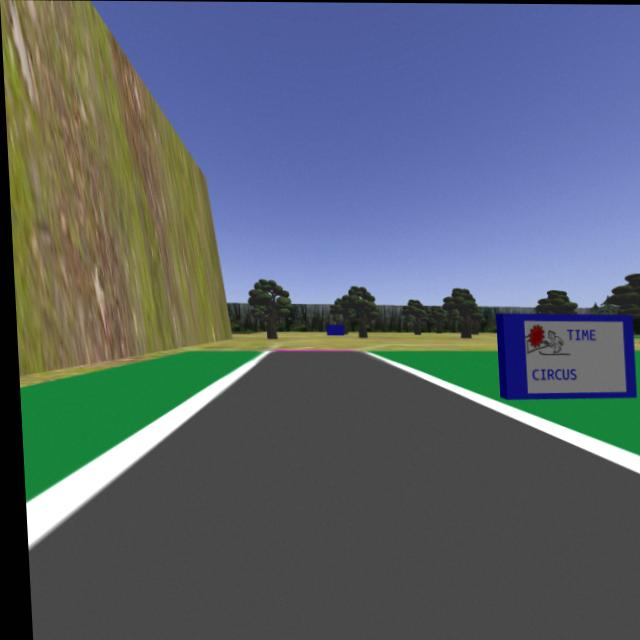clueboard: (491, 308, 640, 406)
